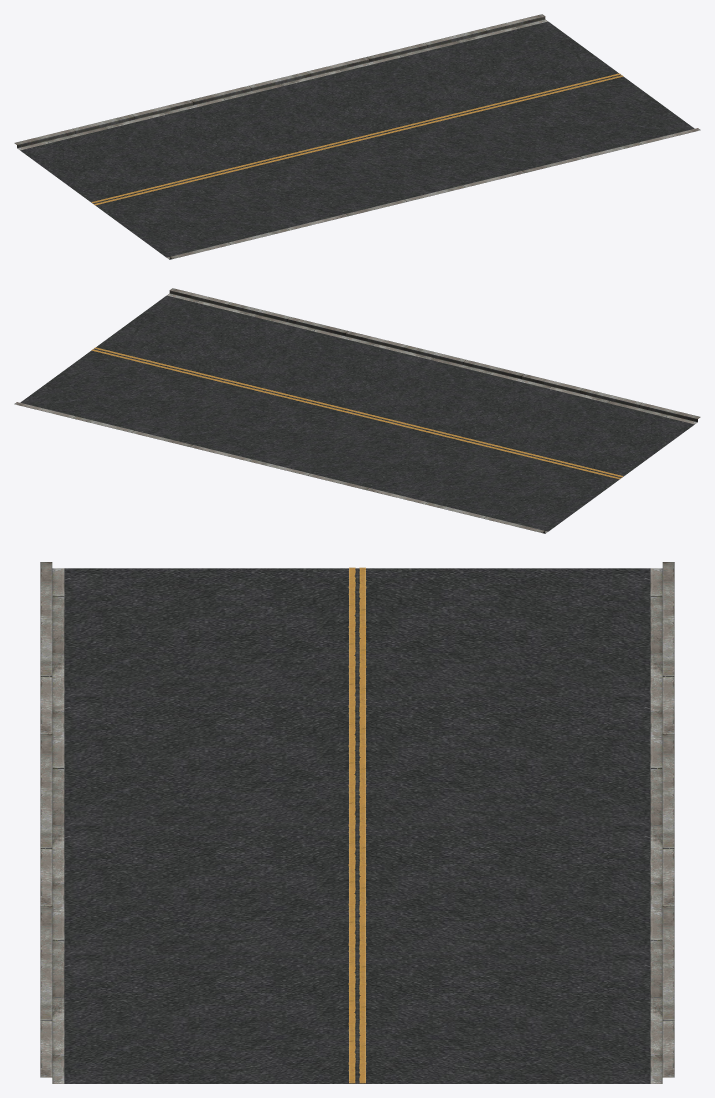
The model's file is Road Patch.fbx.
3 views of the same model, one above another, from view 1: azimuth 30°, elevation 25°; view 2: azimuth 150°, elevation 25°; view 3: azimuth 270°, elevation 25° (orthographic). The views are drawn at different scales.
Parts seen in each view (by area): view 1: Road_Cut; view 2: Road_Cut; view 3: Road_Cut.
Part boxes in pixels (x1,y1,x2,y2): Road_Cut: (14, 14, 700, 259); Road_Cut: (14, 288, 700, 533); Road_Cut: (40, 562, 674, 1083).
Bounding box in the file's own units: 2000 × 11 × 1040.
